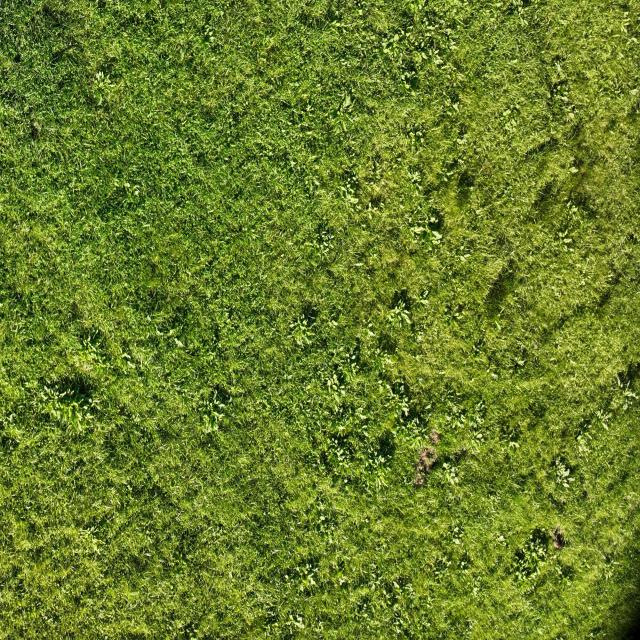rumex: (155, 437, 259, 569), (428, 100, 480, 199), (323, 333, 371, 409), (392, 19, 442, 89), (326, 426, 372, 484), (64, 330, 110, 385), (508, 532, 548, 586), (408, 214, 446, 264), (384, 570, 417, 623), (326, 88, 358, 140), (314, 220, 347, 268), (548, 454, 576, 506), (200, 389, 229, 436), (560, 199, 586, 243), (385, 299, 414, 336), (365, 449, 391, 489), (548, 75, 572, 114), (121, 2, 151, 26), (506, 346, 530, 375), (327, 372, 349, 402), (440, 95, 462, 124), (524, 396, 548, 421), (376, 330, 399, 356), (383, 30, 405, 57), (329, 417, 355, 439), (441, 461, 461, 489), (390, 379, 410, 405), (291, 326, 314, 348), (299, 568, 319, 591), (468, 429, 487, 453), (286, 612, 307, 633), (201, 417, 220, 438), (340, 190, 358, 210), (92, 70, 107, 94), (376, 382, 392, 402), (623, 391, 639, 411), (332, 447, 348, 466), (143, 276, 162, 292), (330, 19, 350, 34), (340, 92, 353, 115), (68, 402, 80, 425), (503, 118, 519, 134), (406, 1, 422, 17), (202, 25, 216, 43), (411, 224, 431, 236), (408, 170, 423, 186), (577, 440, 589, 460), (210, 390, 222, 408), (398, 79, 412, 94), (407, 74, 419, 91), (457, 134, 471, 148), (362, 327, 375, 342), (337, 185, 352, 198), (616, 373, 628, 389), (326, 377, 338, 393), (598, 415, 610, 430), (124, 356, 136, 371), (450, 524, 463, 537), (382, 357, 396, 369), (74, 394, 88, 406), (400, 71, 412, 84), (508, 440, 521, 452), (348, 351, 358, 366), (561, 466, 571, 481), (391, 579, 402, 592), (400, 404, 410, 418), (39, 391, 50, 403), (495, 534, 507, 545), (451, 536, 462, 547), (429, 216, 440, 227), (474, 432, 485, 443), (132, 414, 142, 426), (95, 92, 103, 107), (555, 62, 563, 76), (174, 338, 184, 349), (420, 297, 430, 308), (381, 38, 390, 50), (338, 576, 348, 586), (608, 128, 618, 138), (562, 237, 573, 246), (460, 253, 471, 262), (438, 370, 452, 377), (130, 184, 140, 193), (155, 327, 164, 337), (312, 178, 321, 188), (569, 166, 579, 175), (446, 169, 456, 178), (440, 173, 449, 183), (615, 52, 624, 62), (621, 10, 630, 20), (509, 250, 518, 260), (515, 570, 523, 581), (634, 87, 640, 101), (122, 181, 131, 190), (366, 210, 374, 220), (442, 462, 450, 471), (318, 514, 326, 522), (133, 188, 140, 197), (354, 262, 364, 268), (576, 434, 582, 443), (313, 296, 318, 304)
